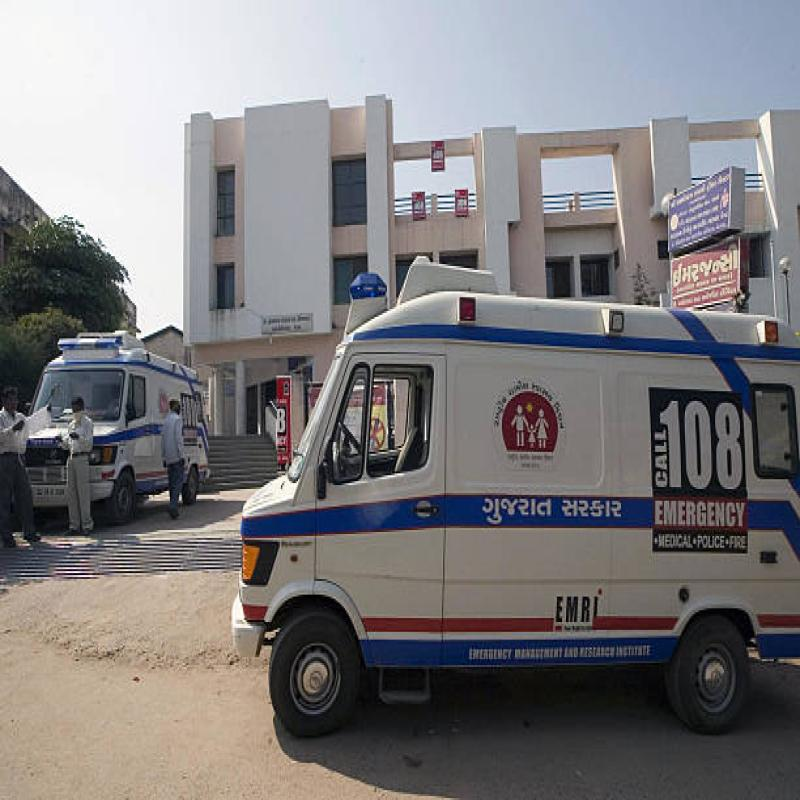ambulance: (200, 238, 800, 700)
